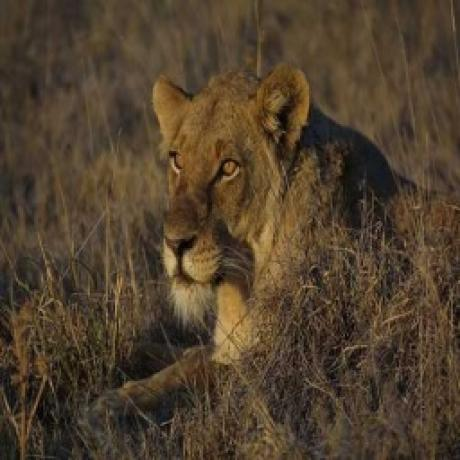Lion: (124, 61, 460, 404)
